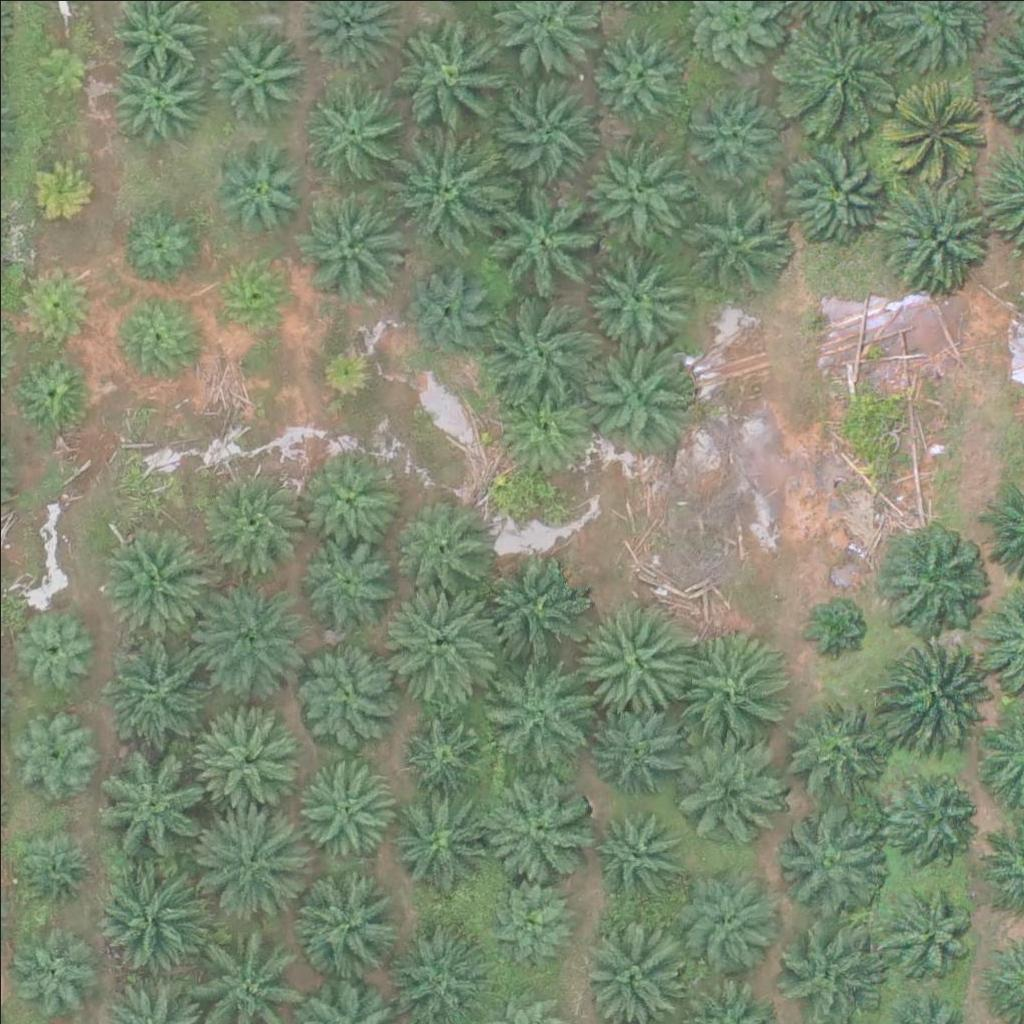Kelapa_Sawit: (189, 797, 302, 911), (488, 73, 601, 186), (782, 20, 895, 133), (95, 857, 208, 970), (102, 741, 215, 854), (487, 667, 600, 780), (474, 550, 587, 663), (580, 603, 693, 716), (675, 862, 788, 975), (675, 743, 788, 856), (683, 629, 796, 742), (391, 126, 504, 239), (485, 177, 598, 290), (580, 334, 693, 447), (783, 132, 896, 245), (778, 802, 891, 915), (879, 633, 992, 746), (104, 625, 216, 739), (100, 521, 212, 635), (198, 464, 310, 578), (485, 768, 597, 882), (396, 17, 508, 130), (190, 576, 302, 689), (190, 703, 302, 816), (298, 867, 410, 980), (383, 779, 495, 892), (383, 591, 495, 704), (295, 190, 407, 303), (480, 294, 592, 407), (578, 144, 690, 257), (684, 181, 796, 294), (881, 175, 993, 288), (878, 517, 990, 630), (107, 49, 207, 150), (213, 136, 313, 237), (206, 20, 306, 121), (300, 80, 400, 181), (296, 753, 396, 854), (296, 641, 396, 742), (294, 532, 394, 633), (399, 493, 499, 594), (586, 696, 686, 797), (582, 809, 682, 910), (493, 376, 593, 477), (585, 242, 685, 343), (782, 695, 882, 796), (885, 763, 985, 864), (888, 73, 988, 173), (294, 447, 394, 547), (111, 294, 199, 382), (111, 202, 199, 290), (13, 262, 101, 350), (5, 351, 93, 439), (10, 606, 98, 694), (6, 714, 94, 802), (403, 708, 491, 796), (486, 878, 574, 966), (398, 269, 486, 357), (886, 889, 974, 977), (591, 28, 678, 116), (689, 83, 776, 171), (211, 252, 298, 340), (9, 822, 96, 910), (9, 927, 96, 1015), (21, 152, 96, 228), (797, 592, 872, 667), (318, 336, 381, 399), (29, 36, 91, 99)
